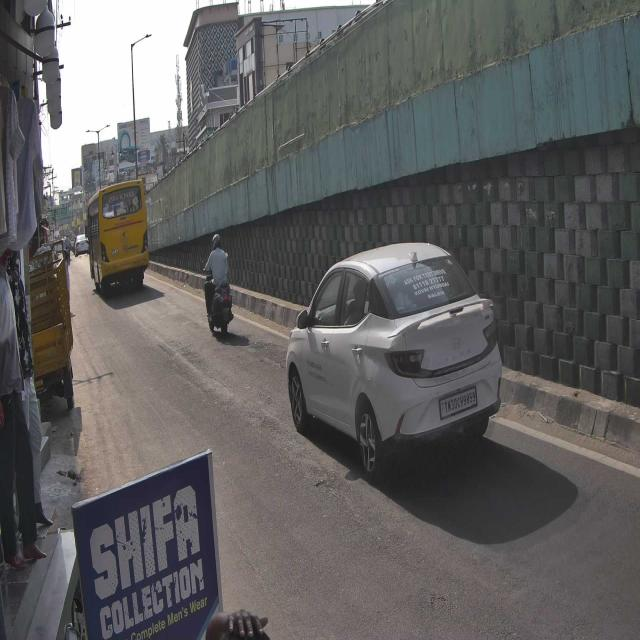single_rider: (202, 232, 235, 340)
